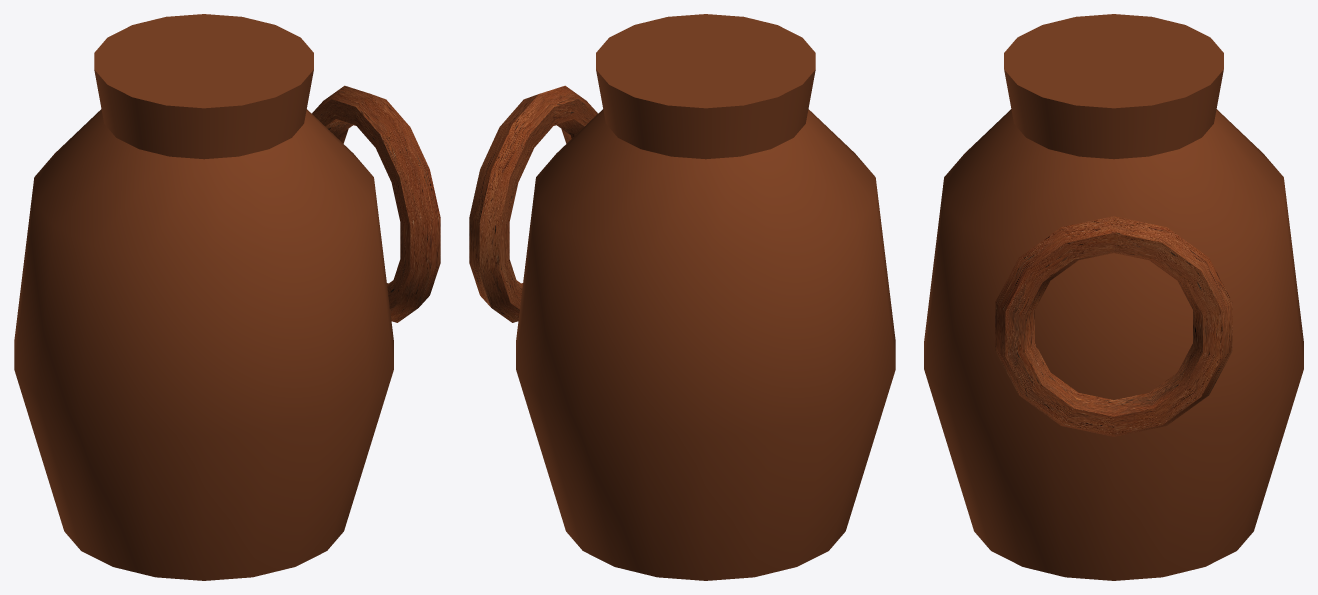
File: beer-jug-v01-photo.glb
3 renders of one model, left to right at view 1: azimuth 30°, elevation 25°; view 2: azimuth 150°, elevation 25°; view 3: azimuth 270°, elevation 25°, orthographic.
Parts seen in each view (by area): view 1: beer-jug; view 2: beer-jug; view 3: beer-jug.
Part boxes in pixels (x1,y1,x2,y2): beer-jug: (14,14,440,580); beer-jug: (469,14,895,580); beer-jug: (924,14,1303,580).
Bounding box in the file's own units: 0.3973 × 0.5 × 0.3742.
1 material, 1 textured.
